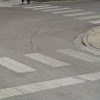crosswalk: (0, 49, 97, 72), (32, 7, 100, 24)
